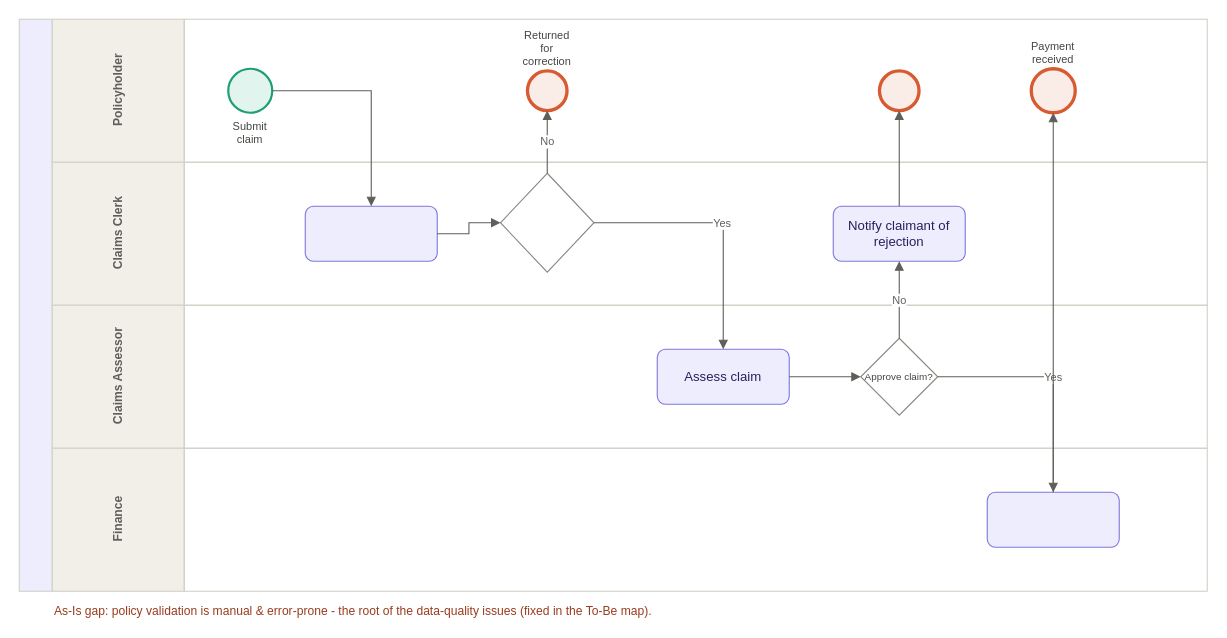
Some shapes in this 1227 by 638 pixel diagram are drawn without their labels. The shapes that lost their labels are listed below. From the top down, each one's centre as x and y in pixels, then its label:
At point 898,90: "Claim closed".
At point 370,233: "Capture claim details".
At point 546,222: "Policy active & valid?".
At point 35,304: "Claims Process (As-Is)".
At point 1052,519: "Process payout".
